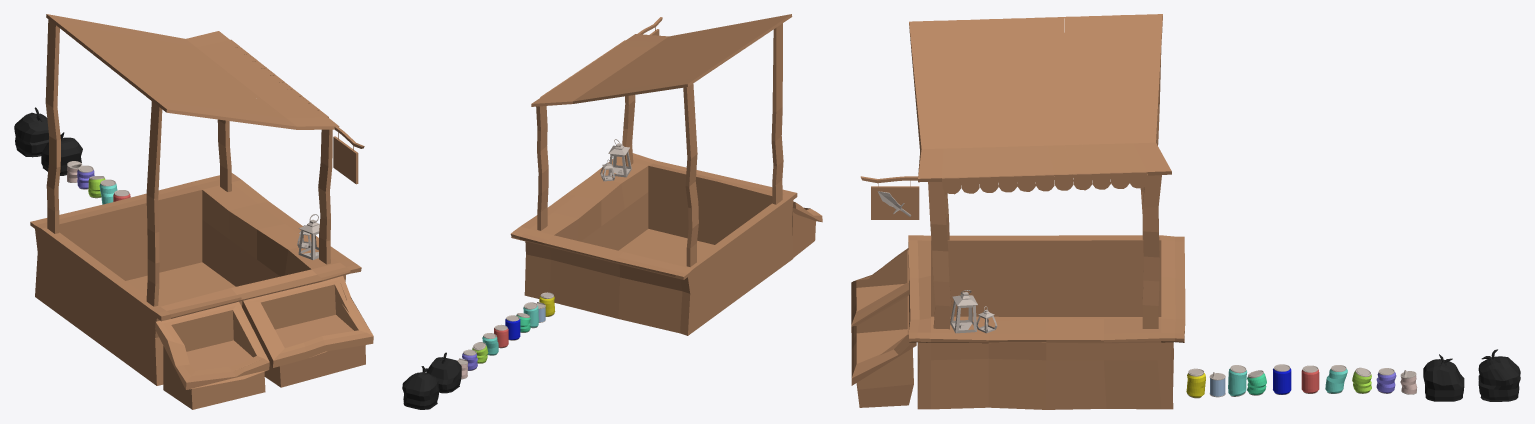
File: stand_accessories_updated.fbx
3 renders of one model, left to right at view 1: azimuth 30°, elevation 25°; view 2: azimuth 150°, elevation 25°; view 3: azimuth 270°, elevation 25°, orthographic. The views are drawn at different scales.
Visible parts, largest first — view 1: stand.001, trash, lantern, can(teal1), can(purple); view 2: stand.001, trash, lantern; view 3: stand.001, trash, lantern.
Part boxes in pixels (x1,y1,x2,y2): stand.001: [30, 14, 373, 409]; trash: [14, 107, 82, 175]; lantern: [297, 214, 319, 259]; can(teal1): [99, 179, 117, 204]; can(purple): [77, 165, 94, 189]; stand.001: [510, 14, 822, 335]; trash: [402, 352, 461, 409]; lantern: [600, 139, 631, 181]; stand.001: [851, 14, 1185, 409]; trash: [1423, 349, 1520, 401]; lantern: [950, 290, 997, 333].
Size of the model in its own units: 1269 by 1739 by 3437.
